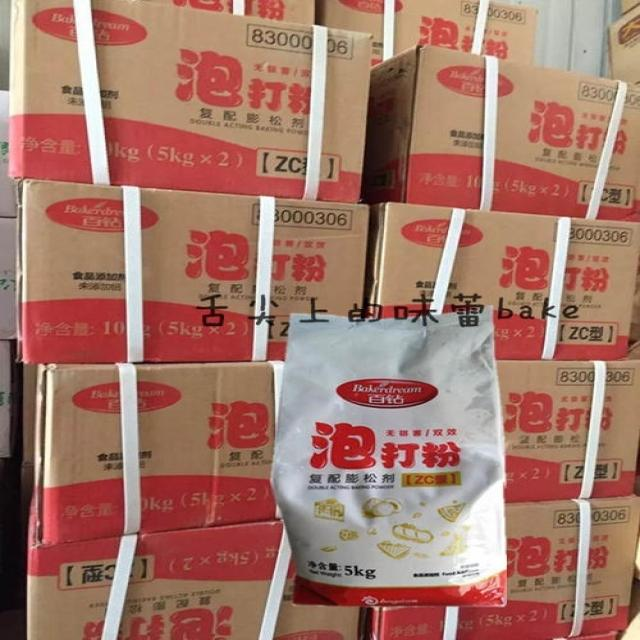Carton: (19, 181, 366, 639), (6, 0, 367, 201), (365, 43, 639, 218), (374, 207, 639, 360), (370, 497, 632, 639), (495, 362, 639, 500)
